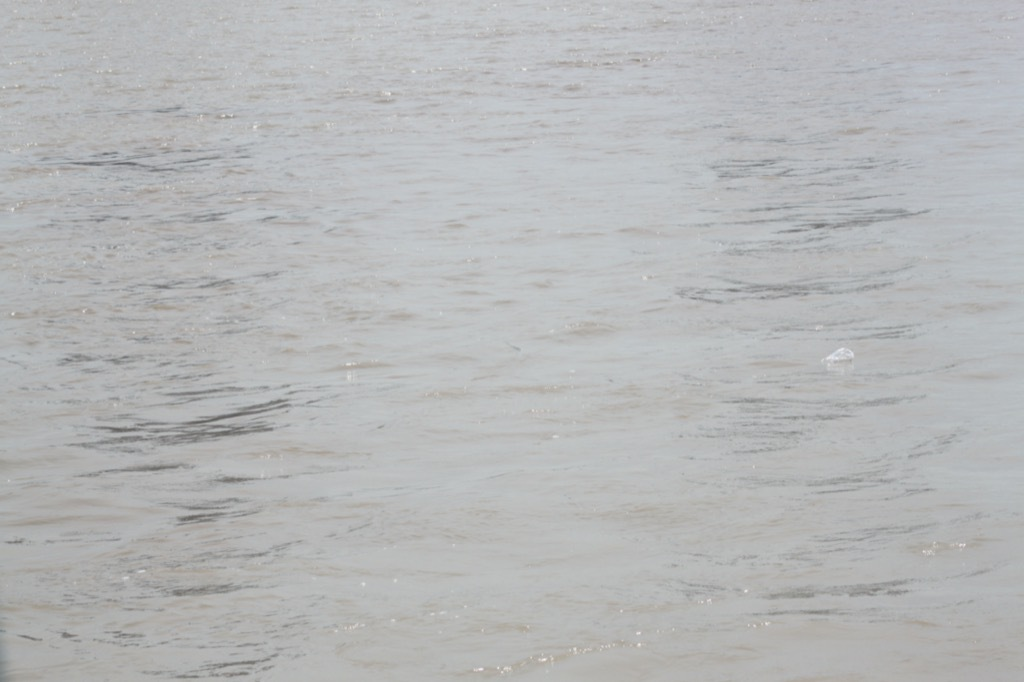plastic: (814, 329, 864, 380)
